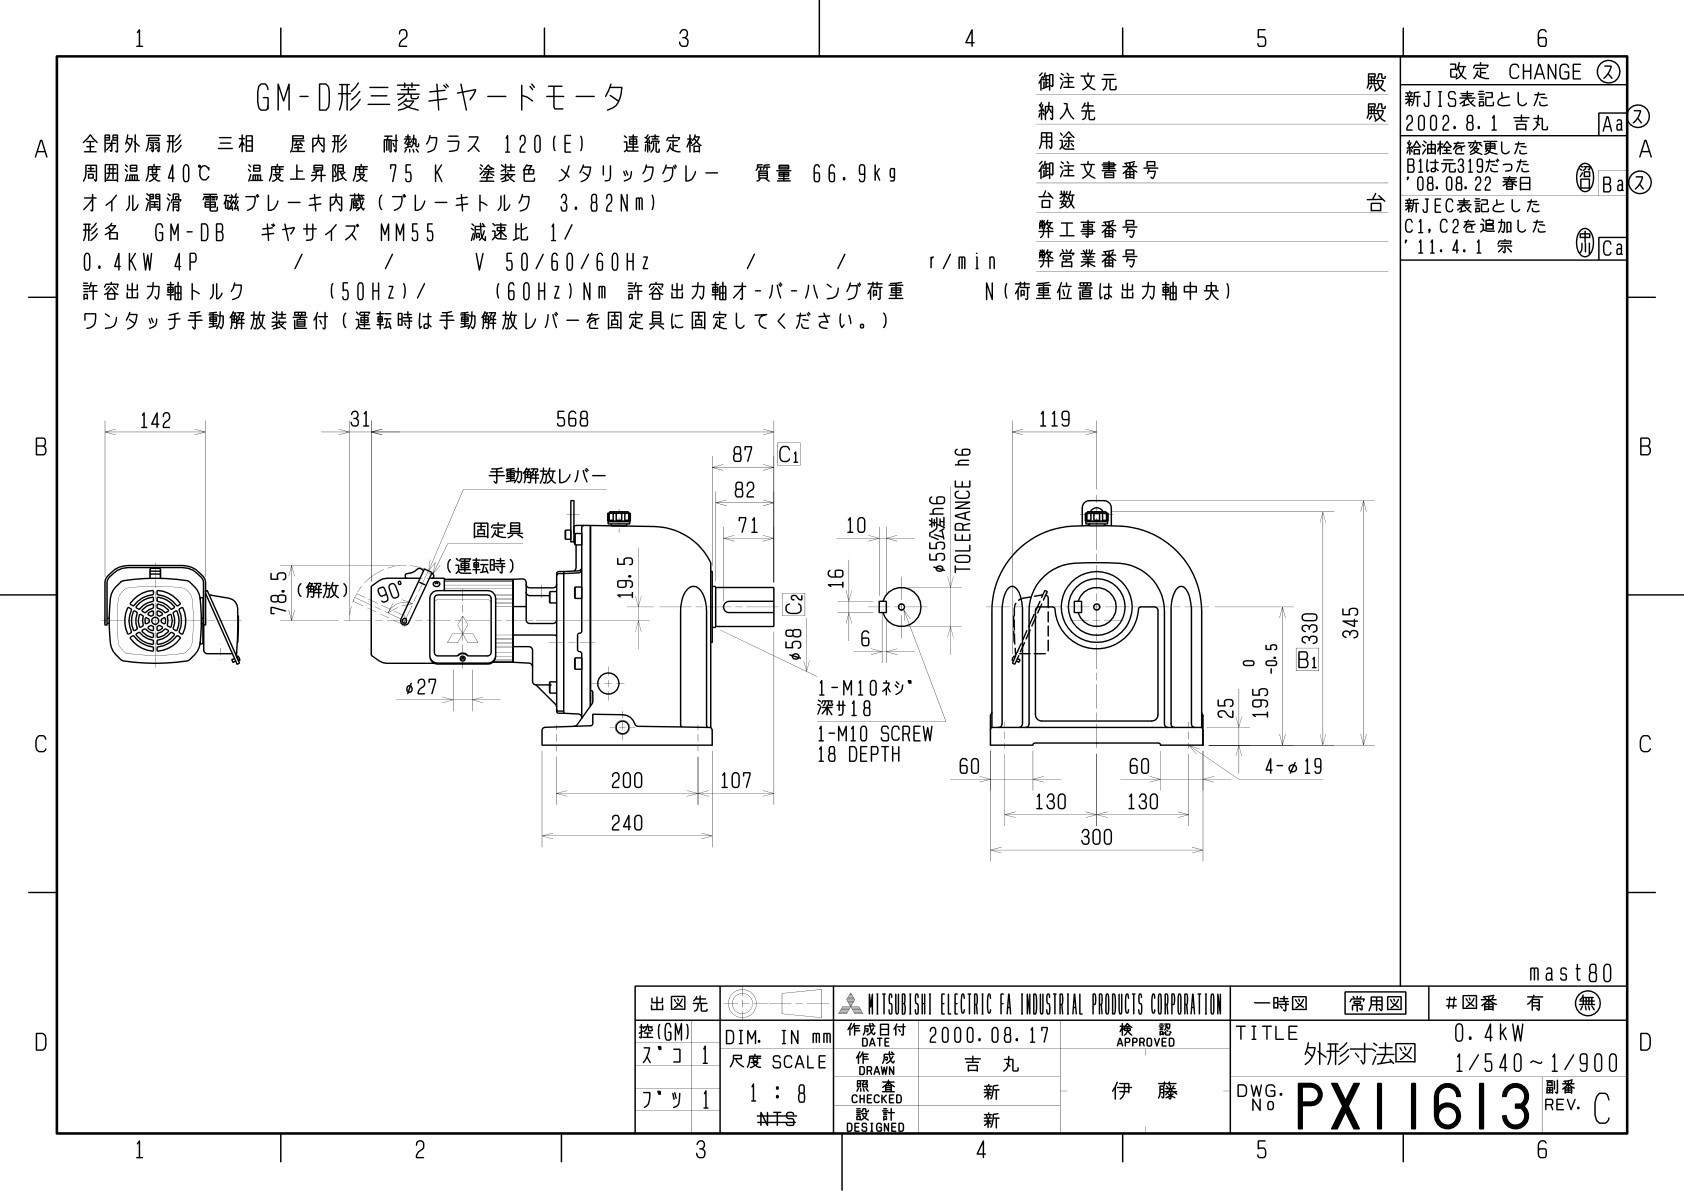GM_D_手動解放ブレーキ＿三相_脚: (71, 360, 1375, 902)
